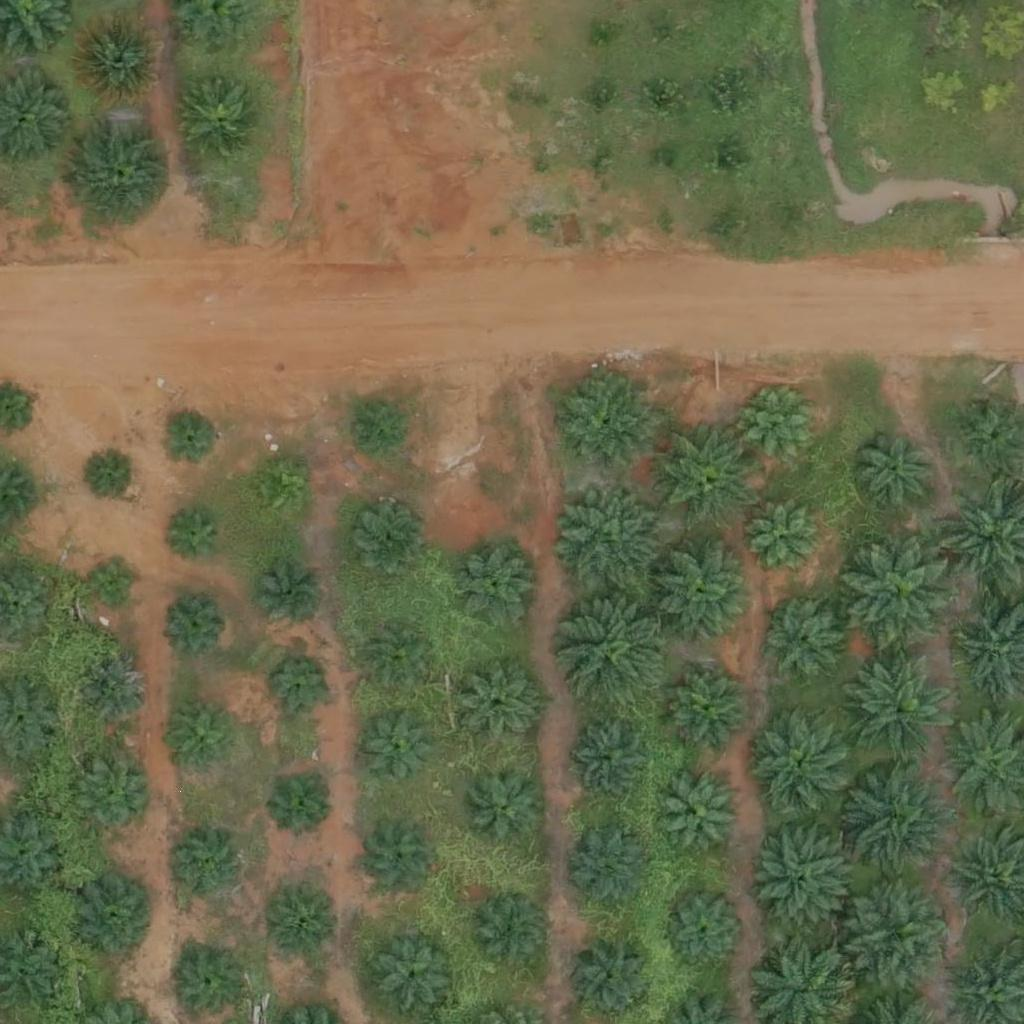Kelapa_Sawit: (557, 486, 670, 600), (563, 593, 676, 707), (844, 533, 957, 646), (849, 652, 962, 765), (843, 761, 956, 874), (843, 879, 955, 993), (74, 121, 174, 222), (558, 373, 658, 474), (656, 424, 756, 525), (656, 544, 756, 644), (753, 711, 853, 811), (756, 825, 856, 925), (373, 933, 461, 1022), (72, 873, 160, 961), (75, 15, 163, 103), (180, 78, 268, 166), (853, 429, 940, 518), (741, 382, 828, 470), (664, 888, 751, 976), (573, 933, 660, 1021), (364, 616, 439, 692), (348, 506, 423, 582), (462, 667, 537, 743), (457, 547, 532, 623), (577, 720, 652, 796), (575, 834, 650, 910), (669, 673, 744, 749), (664, 777, 739, 853), (771, 606, 846, 682), (746, 499, 821, 574), (174, 948, 249, 1023), (162, 832, 237, 907), (363, 823, 438, 898), (468, 895, 543, 970), (470, 767, 545, 842), (364, 707, 439, 782), (72, 758, 147, 833), (79, 657, 154, 732), (251, 562, 326, 637), (265, 652, 340, 727), (263, 766, 338, 841), (266, 890, 341, 965), (172, 705, 235, 768), (249, 460, 312, 523), (341, 398, 404, 461), (159, 407, 221, 470), (163, 507, 225, 570), (163, 594, 225, 657), (89, 451, 139, 502), (88, 557, 138, 608)
